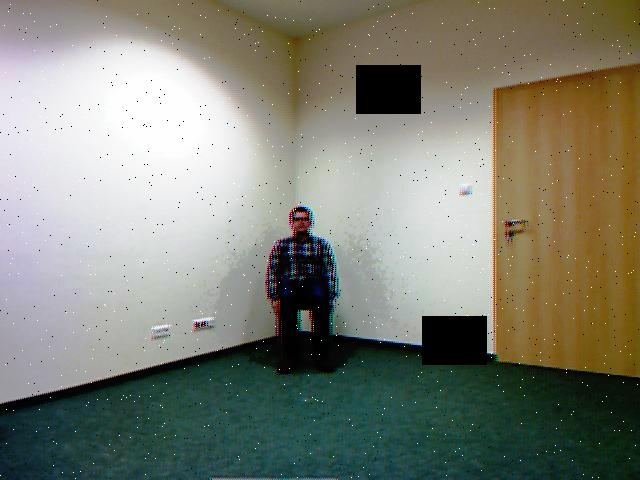sitting: (257, 196, 358, 378)
